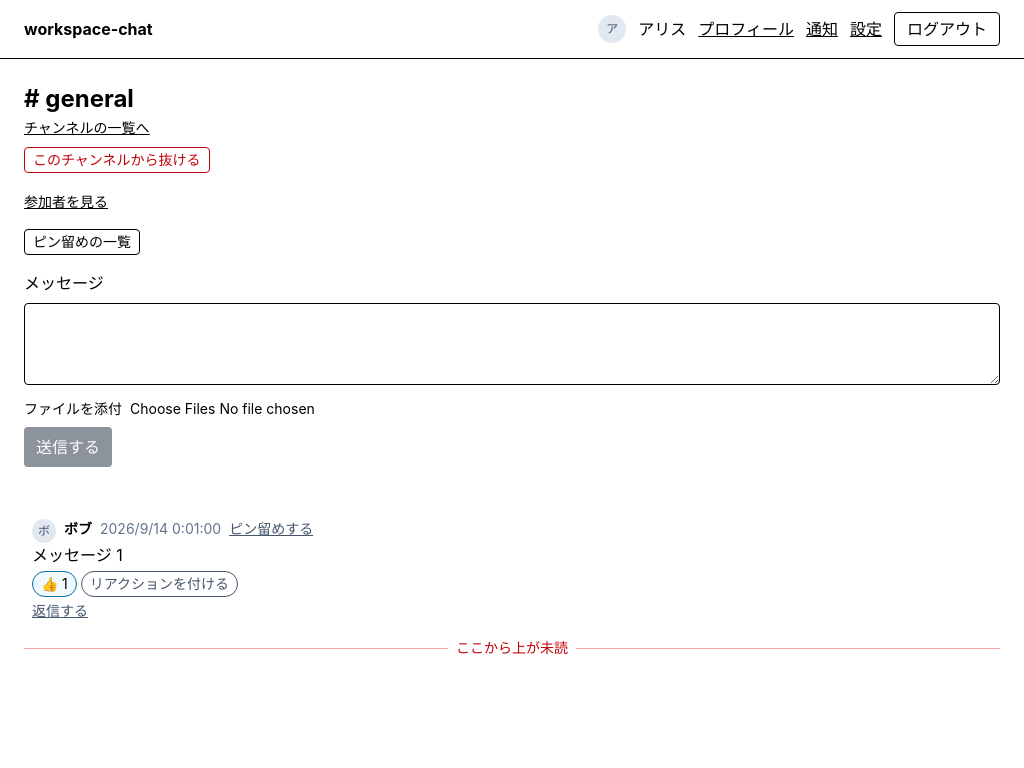
リアクションの付け外し（F-18） › 自分が付けている絵文字を押すと外し（DELETE）、0 人になった絵文字は出さない
Click the button named "👍 1人". click: [54, 584]
box: x1=32 y1=571 x2=77 y2=597
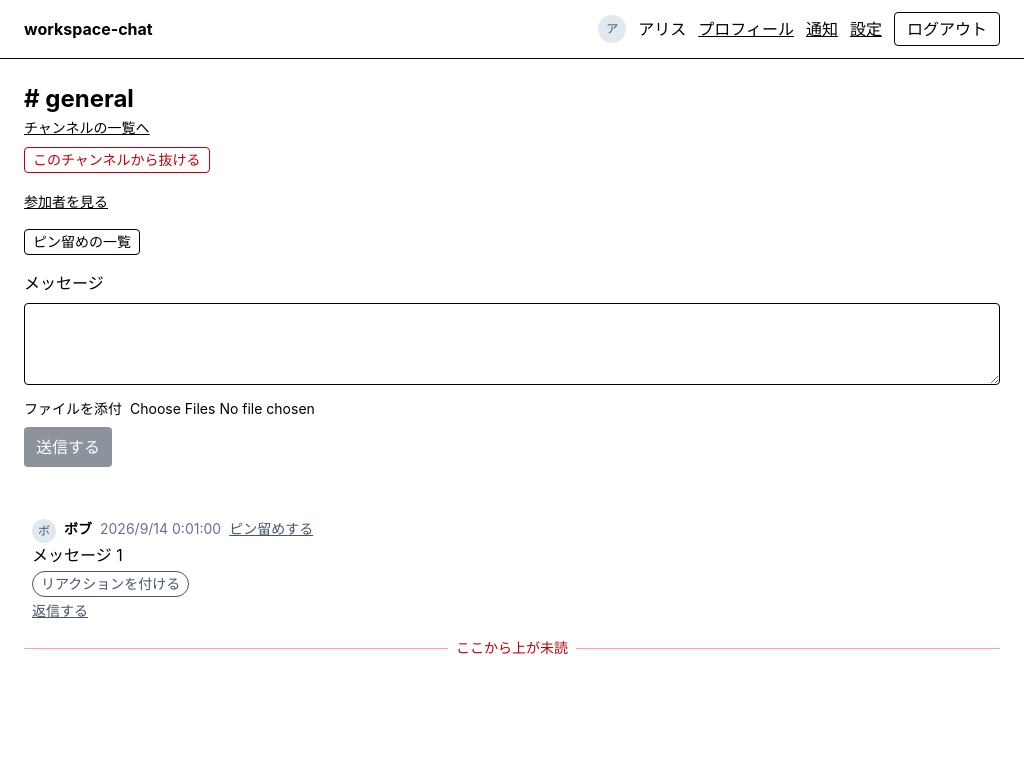
Now the button "👍" is gone
